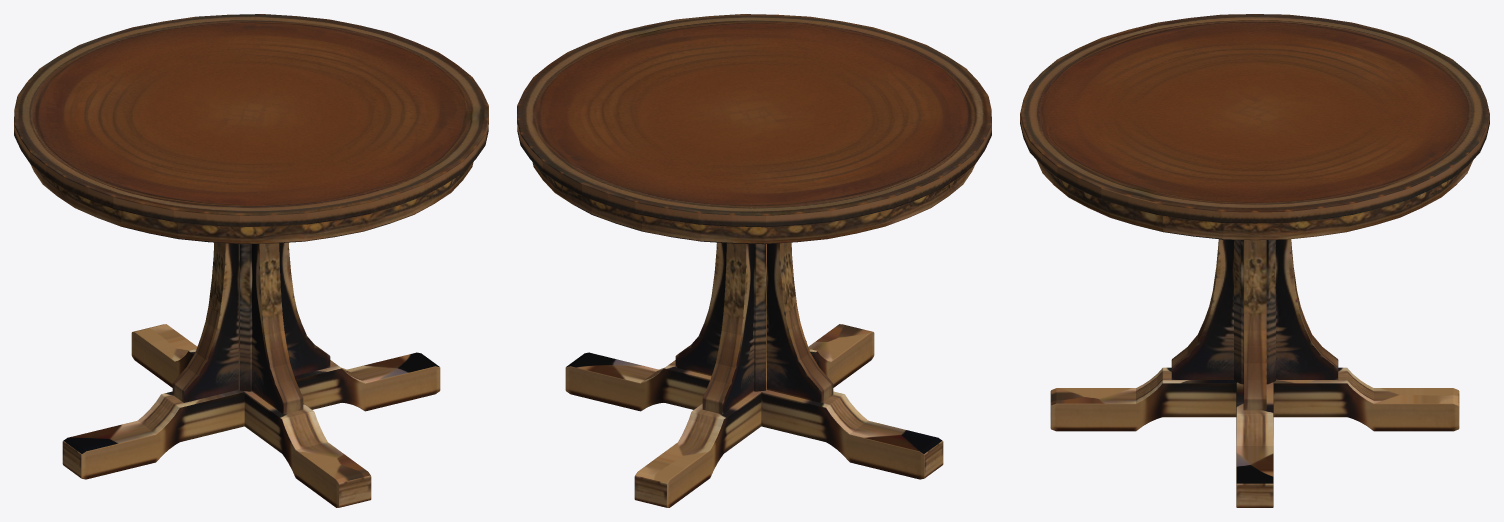
Rendered from edited_mesh.glb.
The picture shows the model from 3 angles, left to right: view 1: azimuth 30°, elevation 25°; view 2: azimuth 150°, elevation 25°; view 3: azimuth 270°, elevation 25°; orthographic projection.
Visible parts, largest first — view 1: normalized_model.obj; view 2: normalized_model.obj; view 3: normalized_model.obj.
Part boxes in pixels (x1,y1,x2,y2): normalized_model.obj: (14,14,488,507); normalized_model.obj: (517,14,991,507); normalized_model.obj: (1020,14,1489,507).
Size of the model in its own units: 1.62 by 1.19 by 1.62.
Materials: 1 (1 with a texture image).
